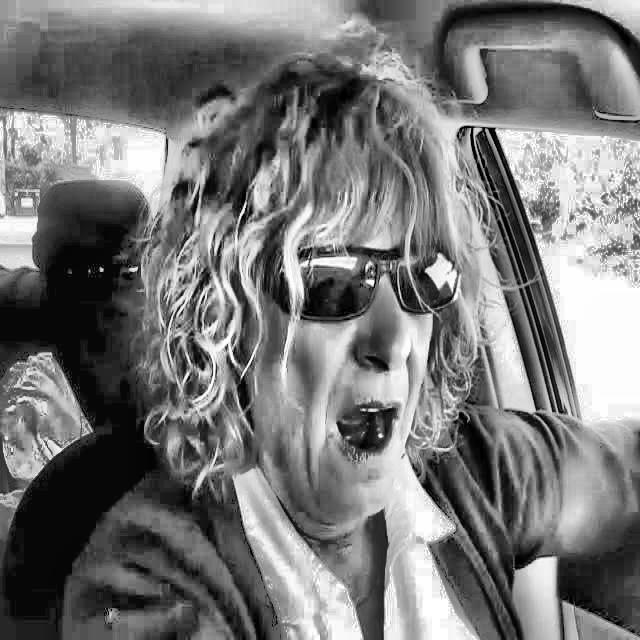open_mouth: (326, 384, 410, 480)
